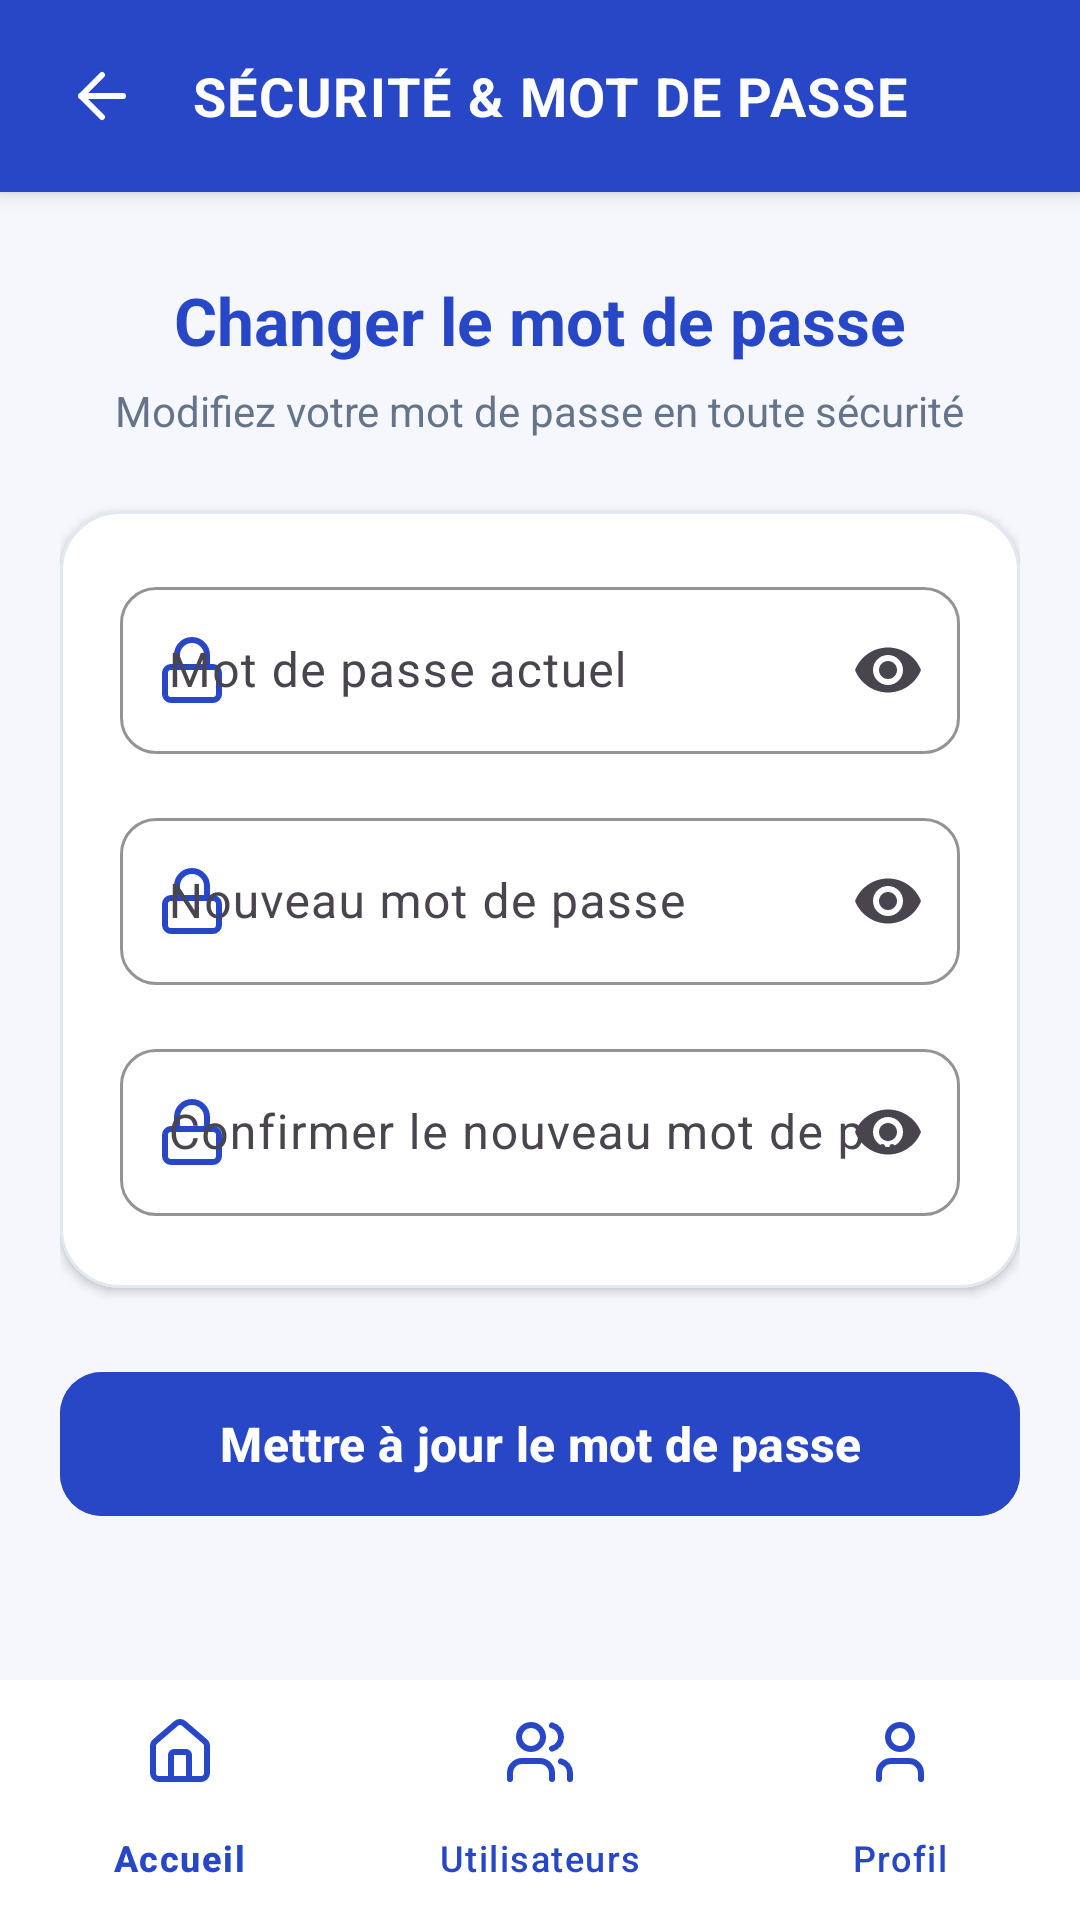

Where icons sit on this 1080px×1920px app screen, as (x1, y1, x2, y2):
Bouton retour: (78, 72, 126, 120)
